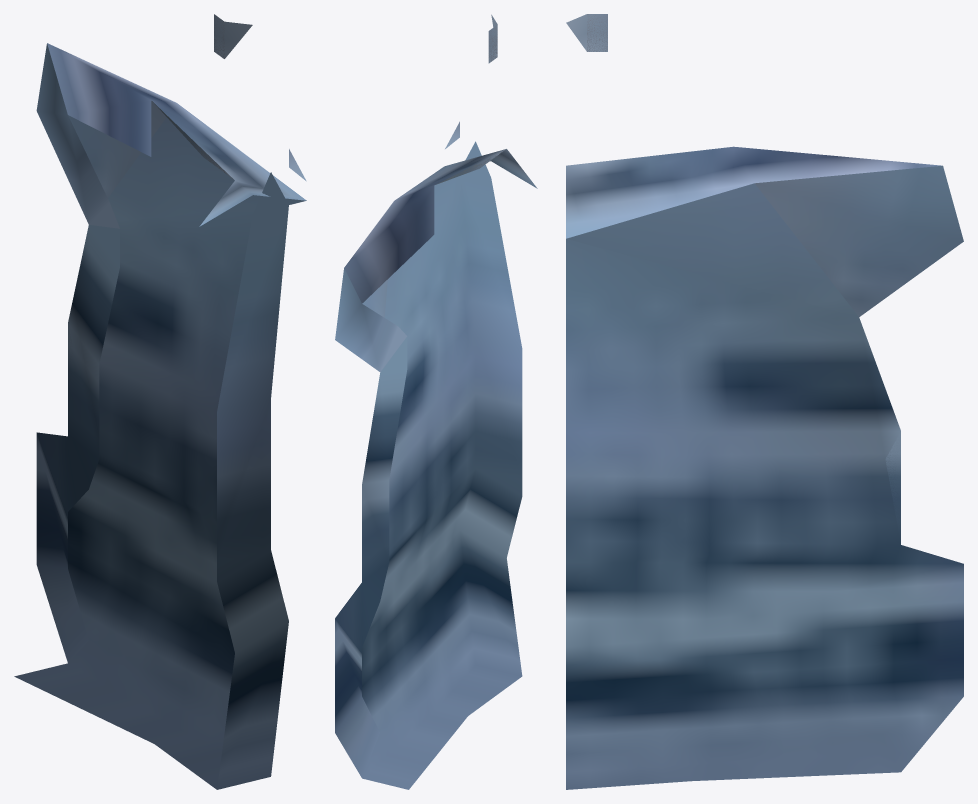
3 renders of one model, left to right at view 1: azimuth 30°, elevation 25°; view 2: azimuth 150°, elevation 25°; view 3: azimuth 270°, elevation 25°, orthographic. The views are drawn at different scales.
Parts seen in each view (by area): view 1: 3043627270436150466_0; view 2: 3043627270436150466_0; view 3: 3043627270436150466_0.
Part boxes in pixels (box(x1,y1,x2,y2)): 3043627270436150466_0: box(14, 14, 306, 789); 3043627270436150466_0: box(335, 14, 537, 789); 3043627270436150466_0: box(566, 14, 963, 789).
Size of the model in its own units: 2.15 by 12.33 by 5.86.
Materials: 1 (1 with a texture image).
